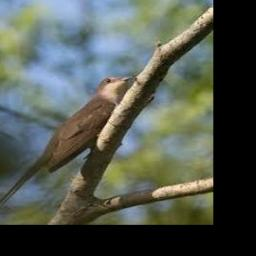Cuckoo: (0, 75, 134, 209)
